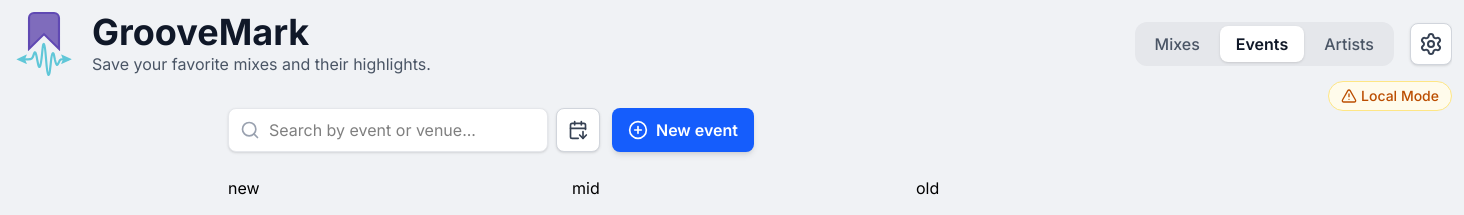
EventsGrid › puts the sort beside the search and reverses the rendered order
expect the element with id "events-sort-btn" is shown: met, box x1=228 y1=108 x2=600 y2=152
expect the elements with class "event-card" read "new", "mid", "old", in this order: met, box x1=228 y1=178 x2=260 y2=198; x1=572 y1=178 x2=600 y2=198; x1=916 y1=178 x2=939 y2=198
Click the button with id "events-sort-btn": (578,130) x1=556 y1=108 x2=600 y2=152
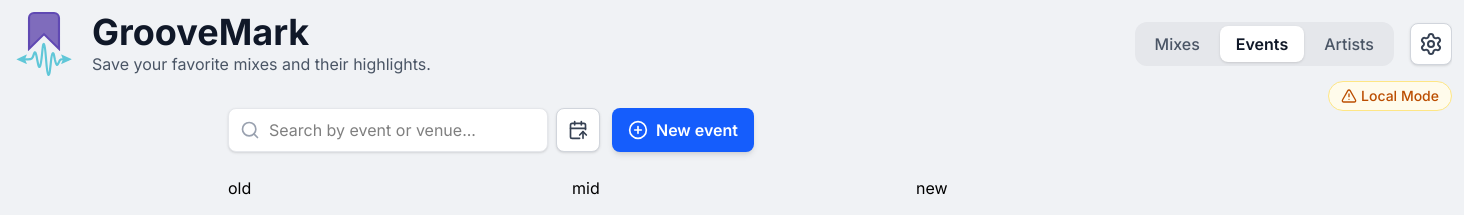
expect the elements with class "event-card" read "old", "mid", "new", in this order: met, box x1=228 y1=178 x2=251 y2=198; x1=572 y1=178 x2=600 y2=198; x1=916 y1=178 x2=948 y2=198
